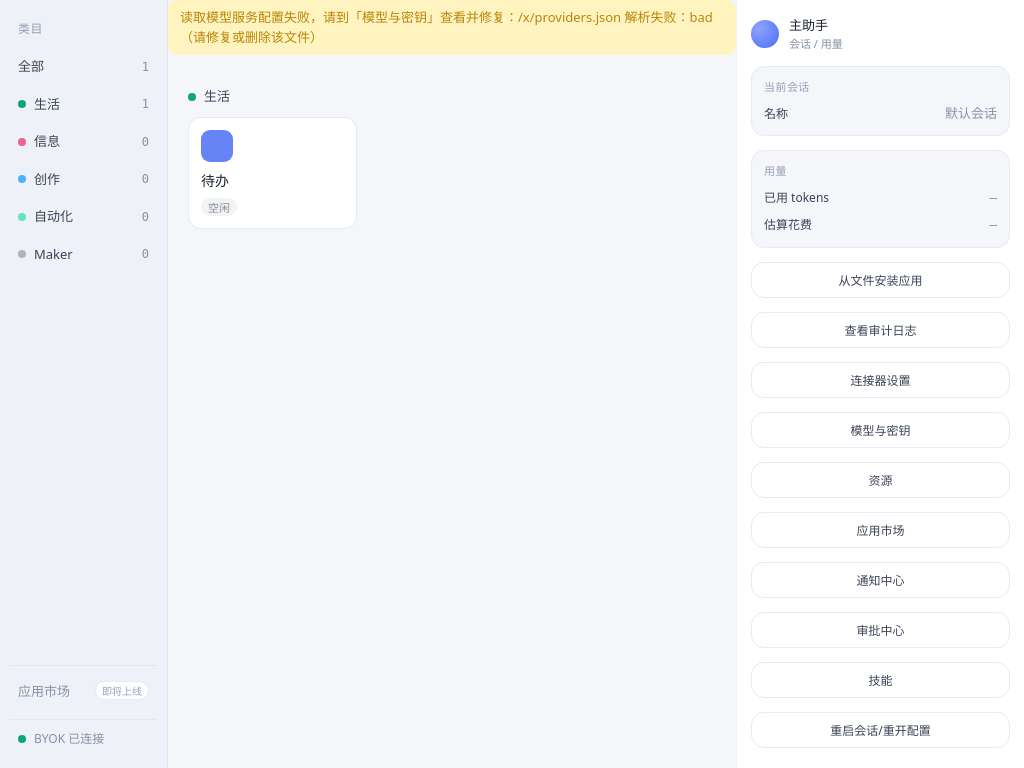
it: providersErr 在「模型与密钥」页里修好（list_providers 恢复成功）后被清除
Check: the message shows "请修复或删除该文件", box [180,8,713,46]
Click the button "模型与密钥" at coordinates (880, 430), box [751,412,1010,448]
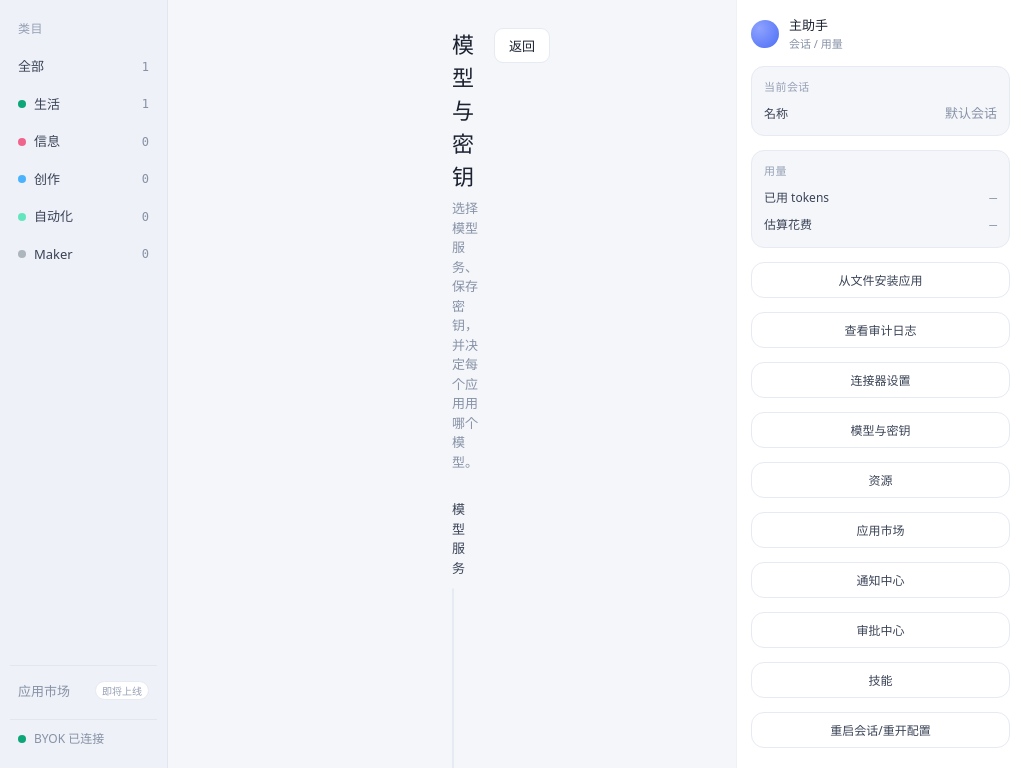
Click the button "返回" at coordinates (522, 46), box [494,28,550,63]
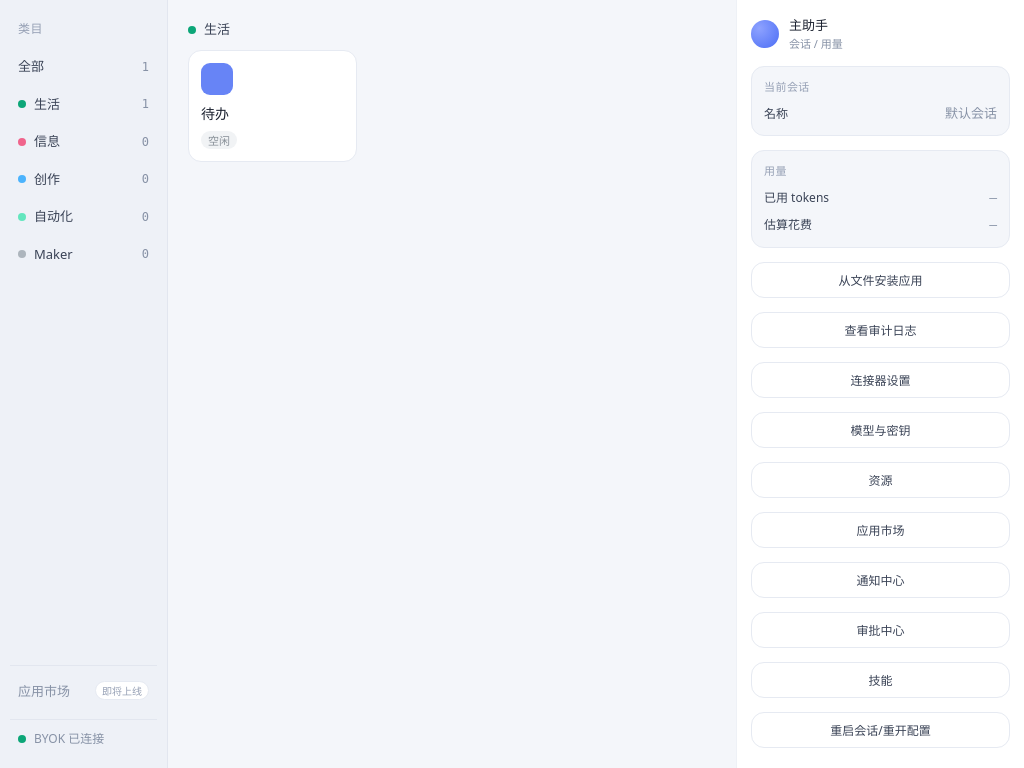
Check: the text "读取模型服务配置失败" is not shown
Check: the text "待办" is shown, box [201,102,229,122]
